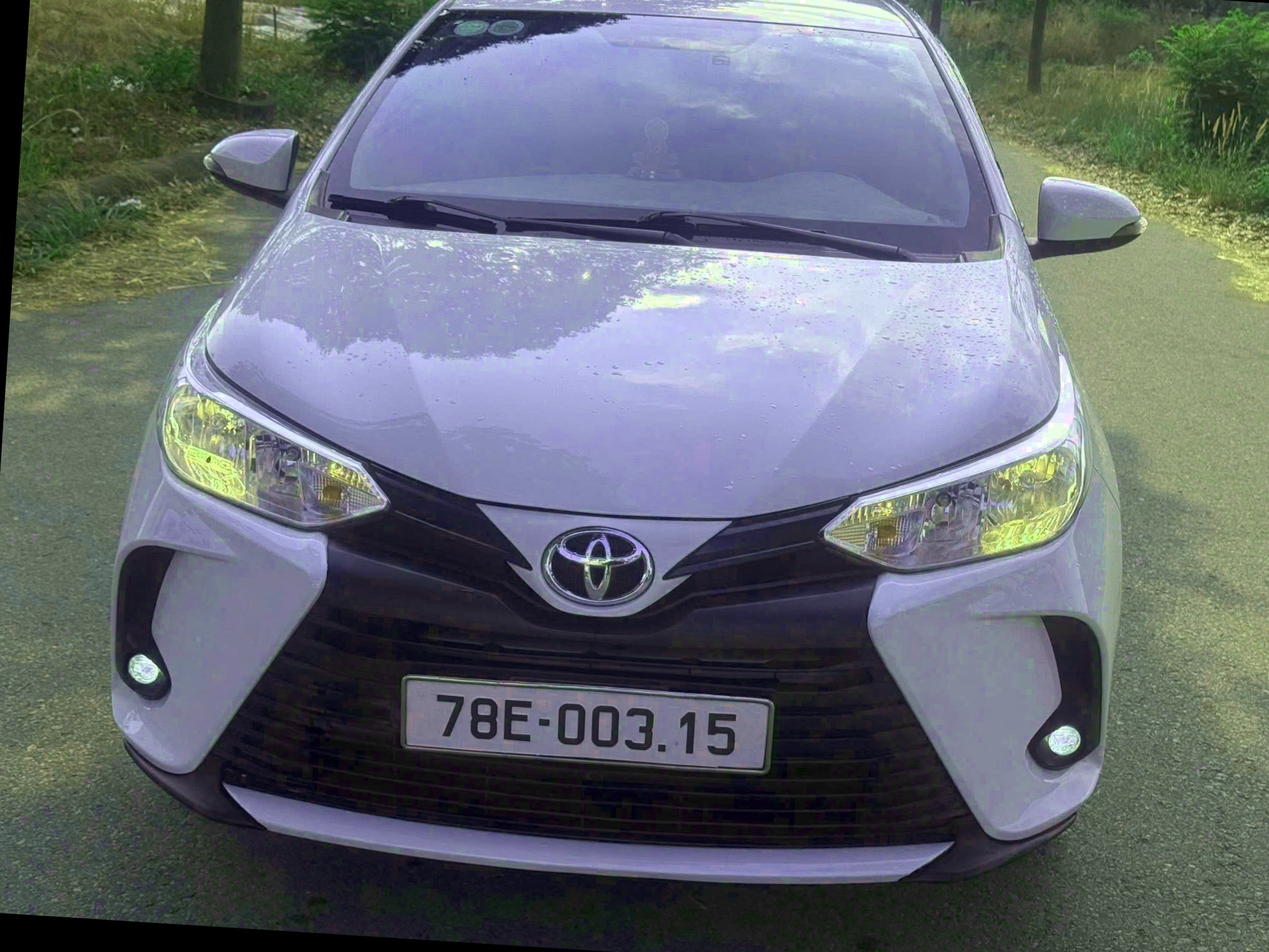Bien-so: (464, 702, 823, 800)
